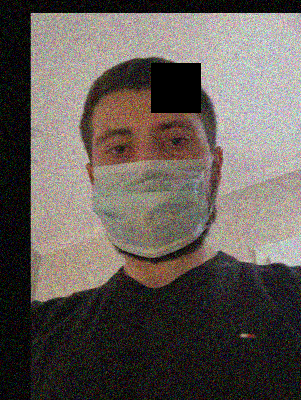with_mask: (90, 112, 216, 265)
